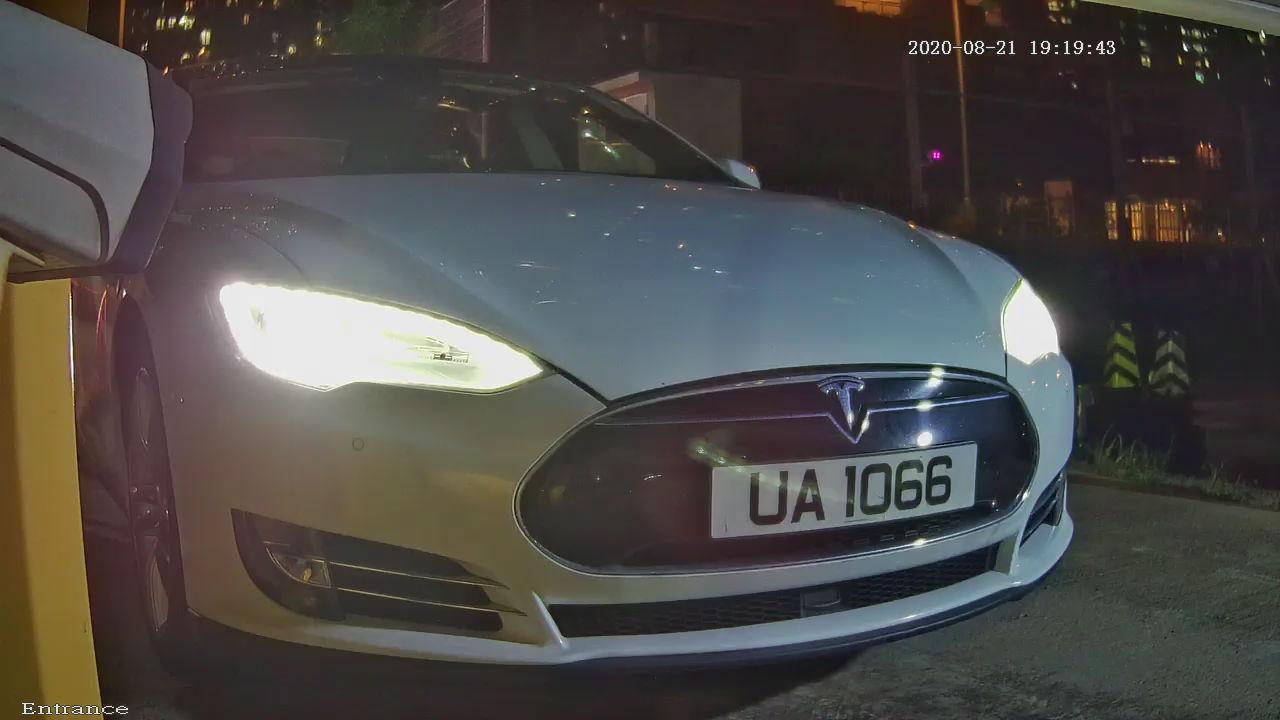Car: (1, 1, 1201, 720)
License Plate: (667, 426, 1004, 573)
